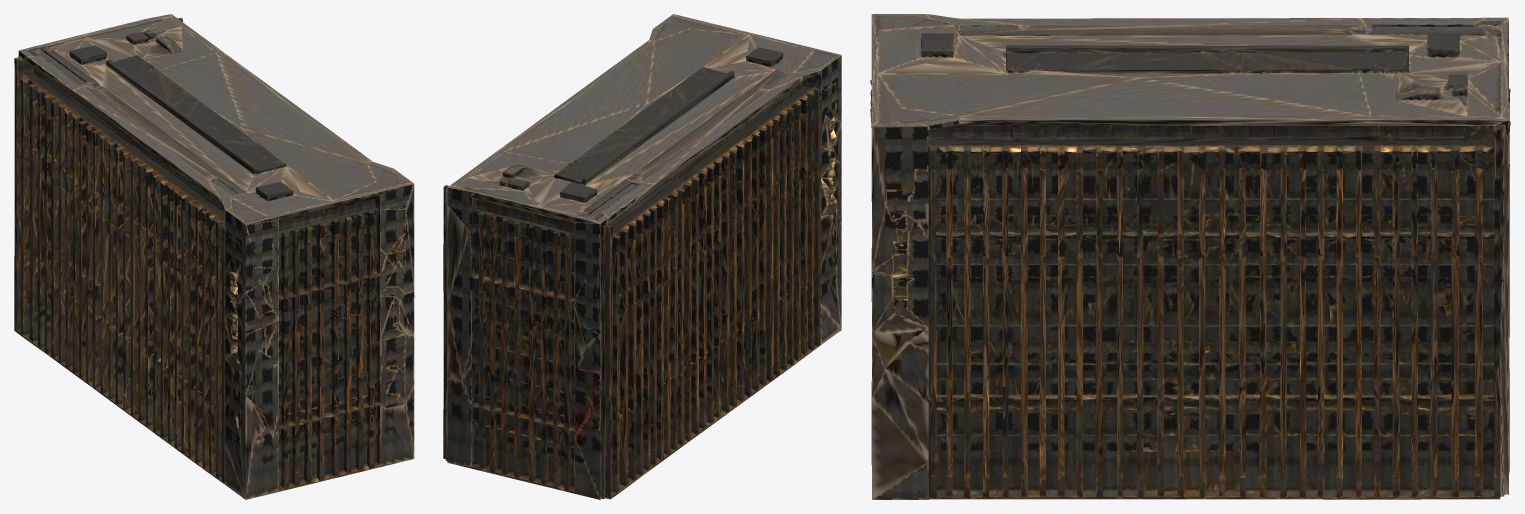
The picture shows the model from 3 angles, left to right: view 1: azimuth 30°, elevation 25°; view 2: azimuth 150°, elevation 25°; view 3: azimuth 270°, elevation 25°; orthographic projection. The views are drawn at different scales.
Visible parts, largest first — view 1: c02; view 2: c02; view 3: c02.
Part boxes in pixels (<box>): c02: <box>14,14,414,499</box>; c02: <box>443,14,841,499</box>; c02: <box>870,14,1510,499</box>.
Bounding box in the file's own units: 33.24 × 52 × 78.68.
Materials: 1 (1 with a texture image).
